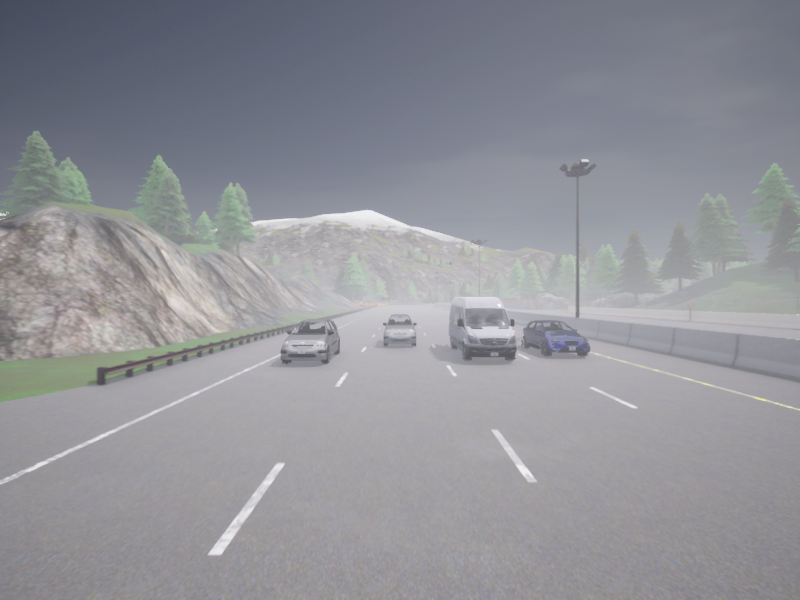vehicle: (449, 297, 516, 360), (280, 319, 340, 363), (522, 320, 590, 356), (382, 314, 416, 346)
